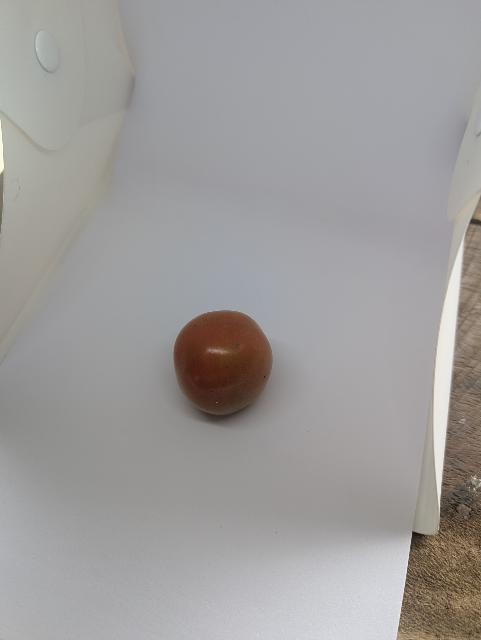red: (169, 299, 278, 429)
